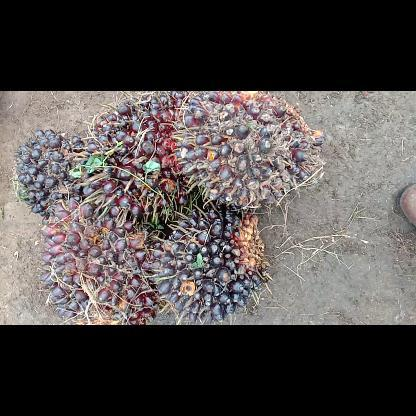TBS mentah: (171, 90, 329, 214), (76, 91, 200, 225), (34, 196, 162, 324), (150, 204, 272, 324), (10, 127, 88, 222)
